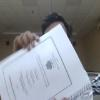notebook: (0, 22, 94, 99)
